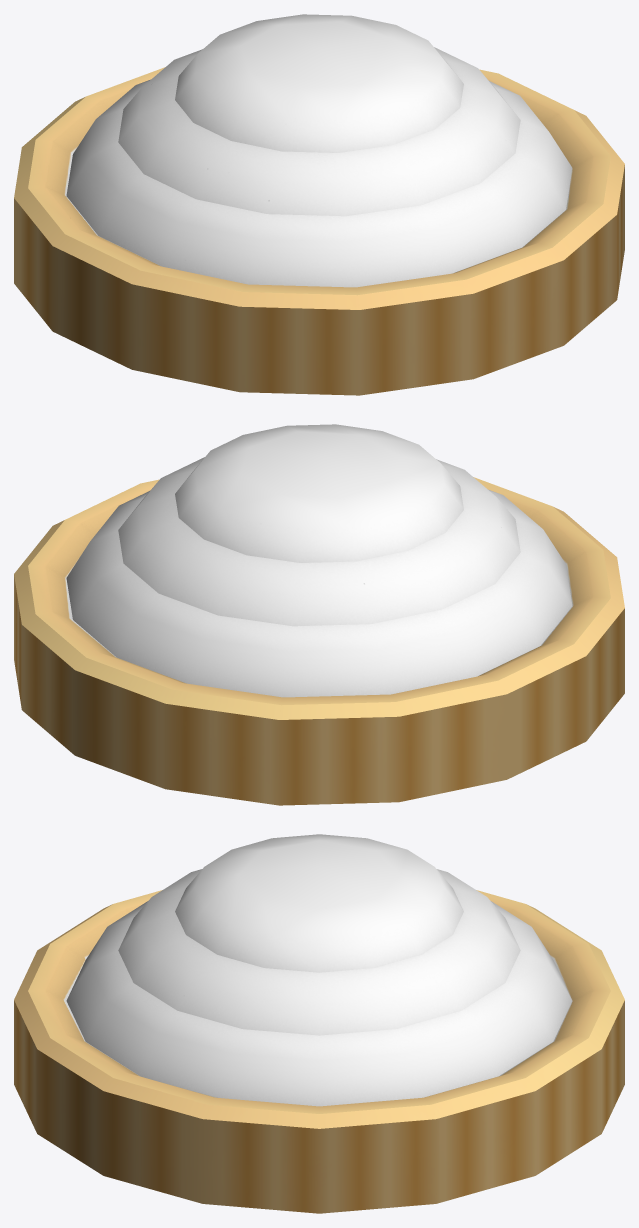
The model's file is creamPie.fbx.
3 views of the same model, one above another, from view 1: azimuth 30°, elevation 25°; view 2: azimuth 150°, elevation 25°; view 3: azimuth 270°, elevation 25° (orthographic).
Visible parts, largest first — view 1: creamPie; view 2: creamPie; view 3: creamPie.
Part boxes in pixels (box(x1,y1,x2,y2)): creamPie: box(14, 14, 624, 395); creamPie: box(14, 424, 624, 805); creamPie: box(14, 834, 624, 1213).
Size of the model in its own units: 0.1362 by 0.0535 by 0.1362.
